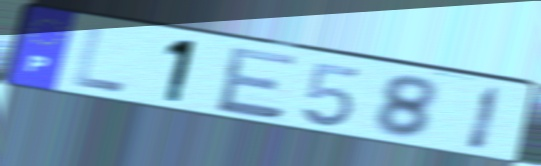1: (157, 37, 200, 108)
5: (298, 60, 365, 129)
8: (372, 72, 441, 143)
E: (213, 43, 301, 122)
I: (463, 83, 507, 156)
L: (69, 25, 129, 96)
